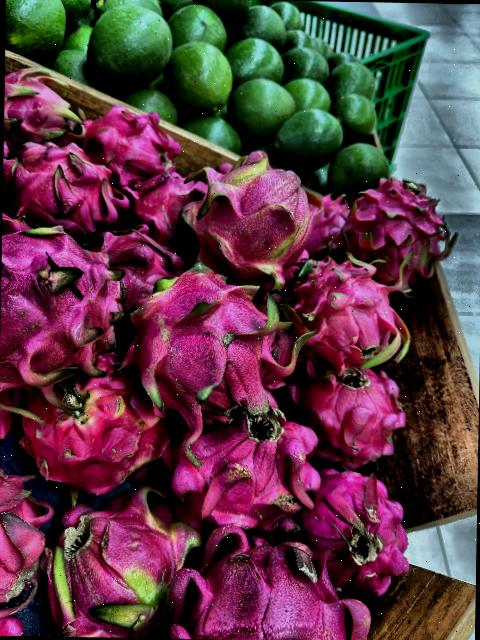buah-naga-belum-matang: (40, 493, 193, 639), (183, 145, 314, 283)
buah-naga-matang: (123, 264, 310, 430), (166, 515, 368, 640), (156, 408, 327, 536), (0, 214, 128, 380), (18, 358, 177, 479), (279, 245, 421, 372), (296, 454, 414, 606), (286, 359, 420, 476), (345, 170, 458, 294), (2, 132, 124, 232), (3, 61, 94, 152), (84, 223, 184, 299), (82, 102, 168, 186), (0, 471, 48, 613), (126, 170, 202, 243)
